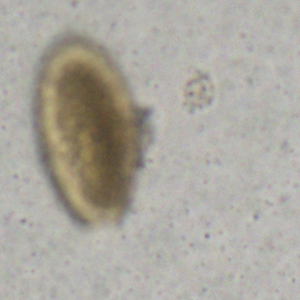Fasciola_hepatica_egg: (33, 28, 138, 227)
